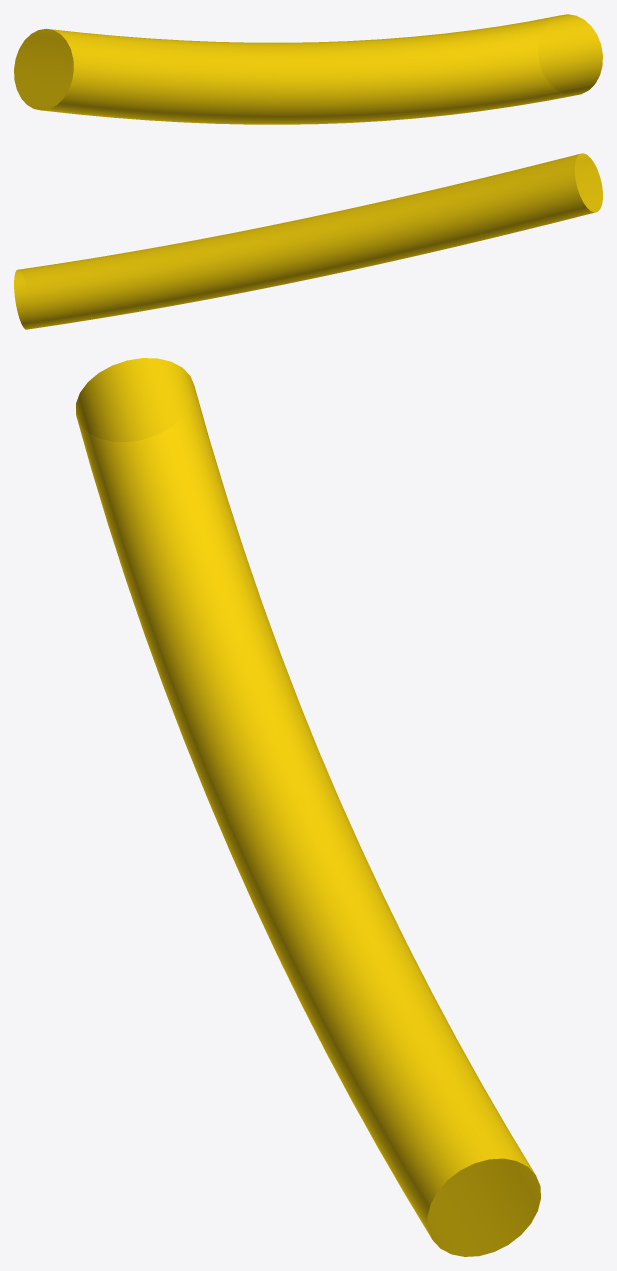
Rendered from Event_421278790_track_29.fbx.
The picture shows the model from 3 angles, top to bottom: view 1: azimuth 30°, elevation 25°; view 2: azimuth 150°, elevation 25°; view 3: azimuth 270°, elevation 25°; orthographic projection. The views are drawn at different scales.
Visible parts, largest first — view 1: Model; view 2: Model; view 3: Model.
Part boxes in pixels (left/top/right/bottom): Model: left=14, top=14, right=602, bottom=124; Model: left=14, top=153, right=602, bottom=329; Model: left=76, top=358, right=540, bottom=1256.
Size of the model in its own units: 0.3797 by 0.1608 by 0.1524.
